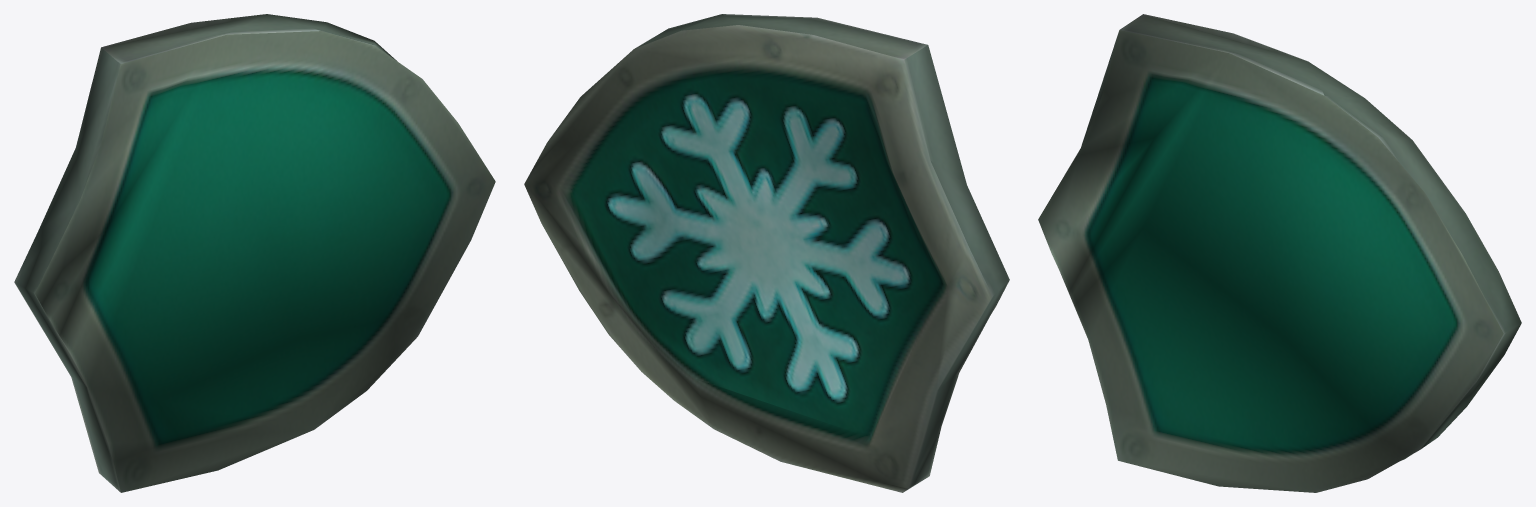
Rendered from item_shield_snowflake.glb.
3 views of the same model, side by side, from view 1: azimuth 30°, elevation 25°; view 2: azimuth 150°, elevation 25°; view 3: azimuth 330°, elevation 25° (orthographic).
Parts seen in each view (by area): view 1: shield.001; view 2: shield.001; view 3: shield.001.
Part boxes in pixels (x1=…): shield.001: x1=14, y1=14, x2=495, y2=492; shield.001: x1=524, y1=14, x2=1009, y2=492; shield.001: x1=1038, y1=14, x2=1521, y2=492.
Bounding box in the file's own units: 1.99 × 1.78 × 0.1815.
1 material, 1 textured.
